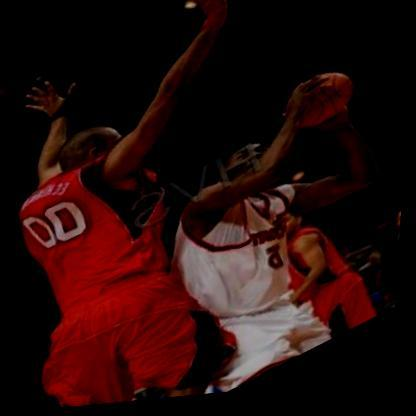basketball: (274, 62, 369, 150)
